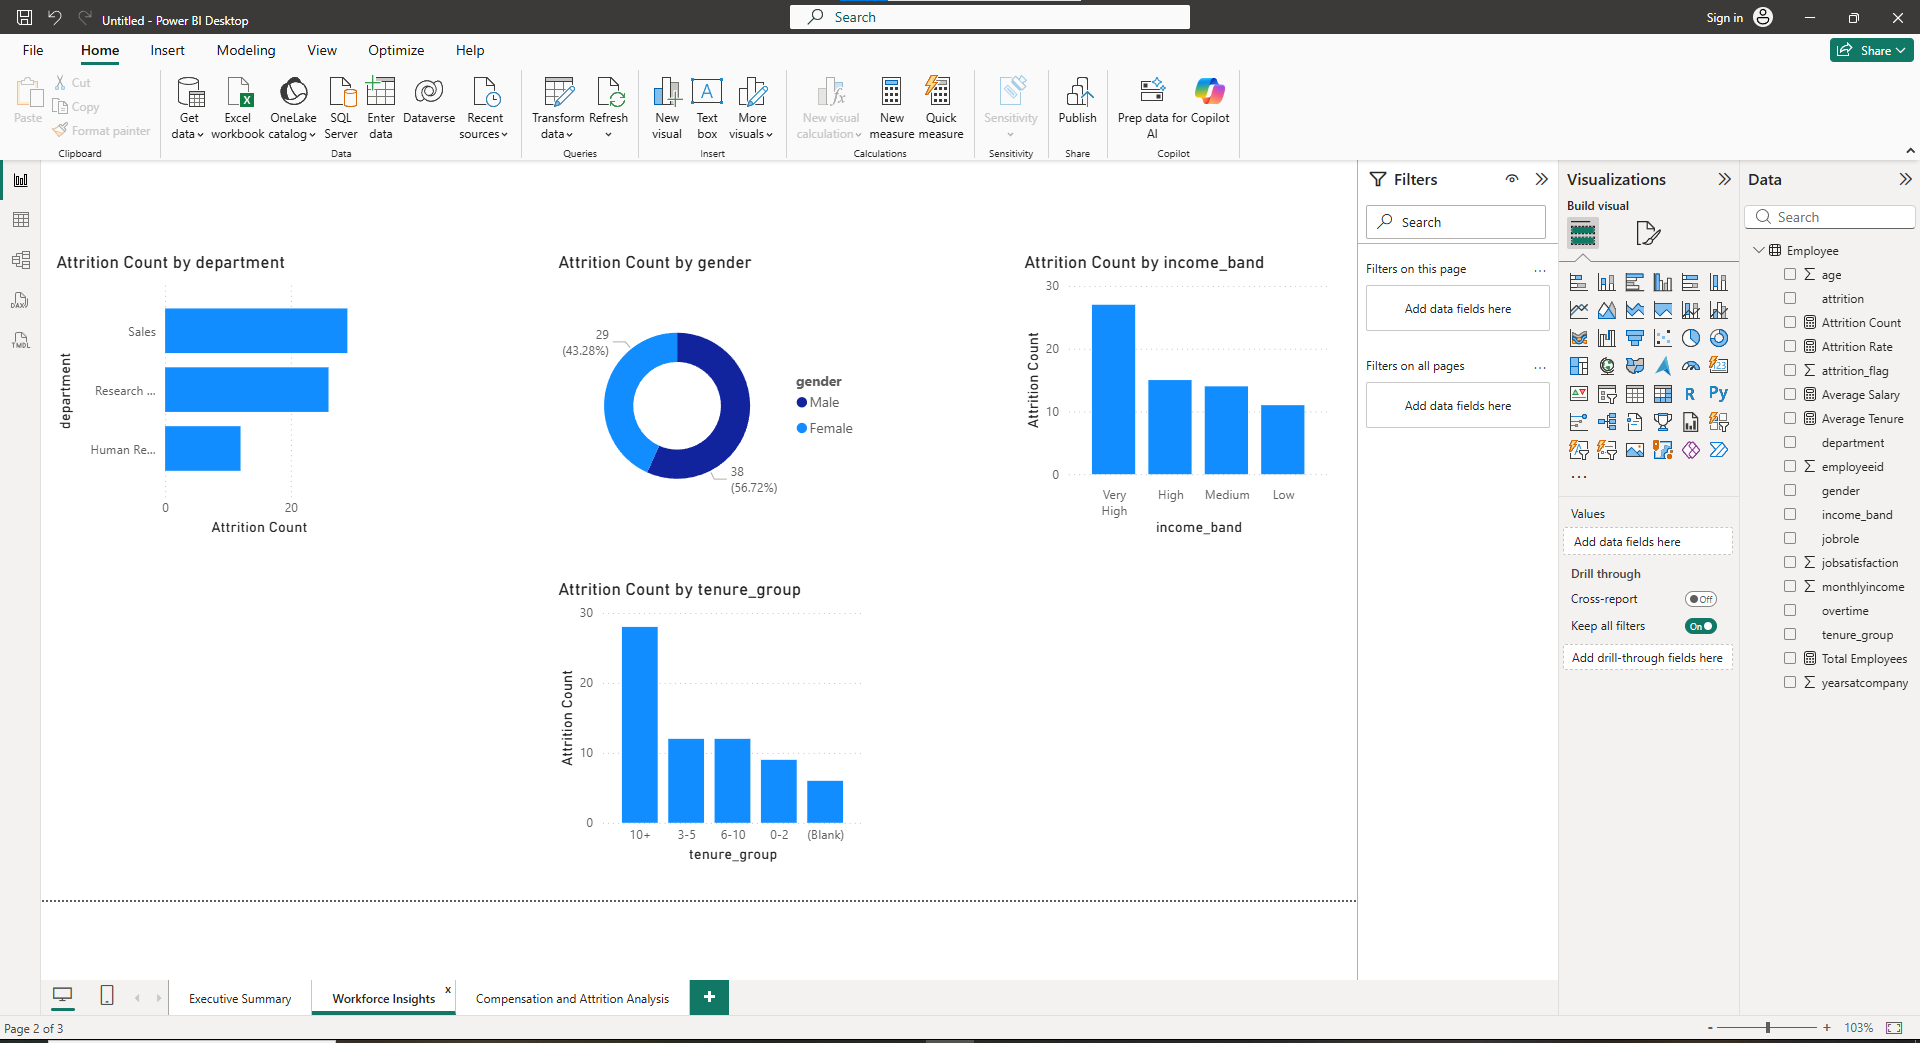

What the dashboard file says about the page in this screenshot:
{"tool":"powerbi","page":{"name":"Workforce Insights","canvas":[1280,720],"ordinal":1},"visuals":[{"type":"clusteredBarChart","fields":{"Category":["Employee.department"],"Y":["Employee.Attrition Count"]},"box":[9.7,89.5,306.4,280.1],"z":0},{"type":"donutChart","fields":{"Category":["Employee.gender"],"Y":["Employee.Attrition Count"]},"box":[498,89.5,306.4,280.1],"z":1000},{"type":"clusteredColumnChart","fields":{"Category":["Employee.income_band"],"Y":["Employee.Attrition Count"]},"box":[951.2,89.5,306.4,280.1],"z":2000},{"type":"clusteredColumnChart","fields":{"Category":["Employee.tenure_group"],"Y":["Employee.Attrition Count"]},"box":[498,407.5,306.4,280.1],"z":3000},{"type":"textbox","box":[349.6,10.1,306.7,51.9],"z":4000},{"type":"textbox","box":[950,686,300.5,33.1],"z":5000}]}

Visuals, with their boxes on the page's 1280x720 design canvas (x1, y1, x2, y2). These are canvas units, not pixel positions in the 1920x1043 screenshot, which may show the page scaled, cropped or inside an application window:
clusteredBarChart - Employee.department x Employee.Attrition Count: bbox=[10, 90, 316, 370]
donutChart - Employee.gender x Employee.Attrition Count: bbox=[498, 90, 804, 370]
clusteredColumnChart - Employee.income_band x Employee.Attrition Count: bbox=[951, 90, 1258, 370]
clusteredColumnChart - Employee.tenure_group x Employee.Attrition Count: bbox=[498, 408, 804, 688]
textbox: bbox=[350, 10, 656, 62]
textbox: bbox=[950, 686, 1250, 719]
